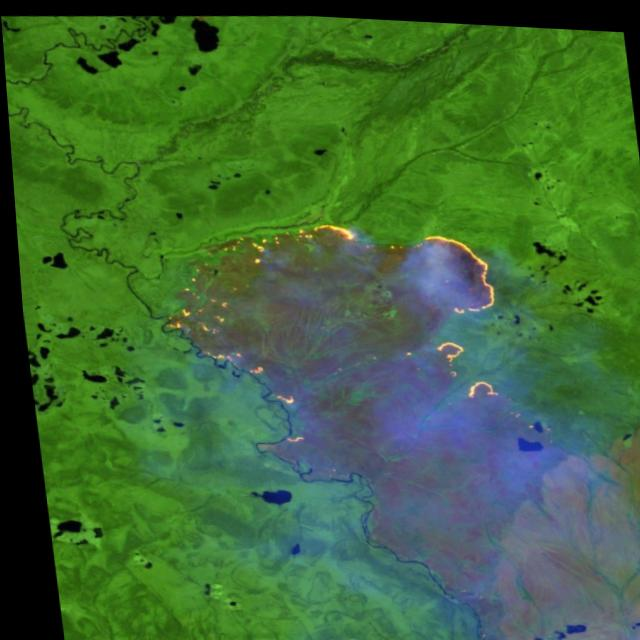fire: (147, 209, 380, 450), (396, 223, 509, 398)
